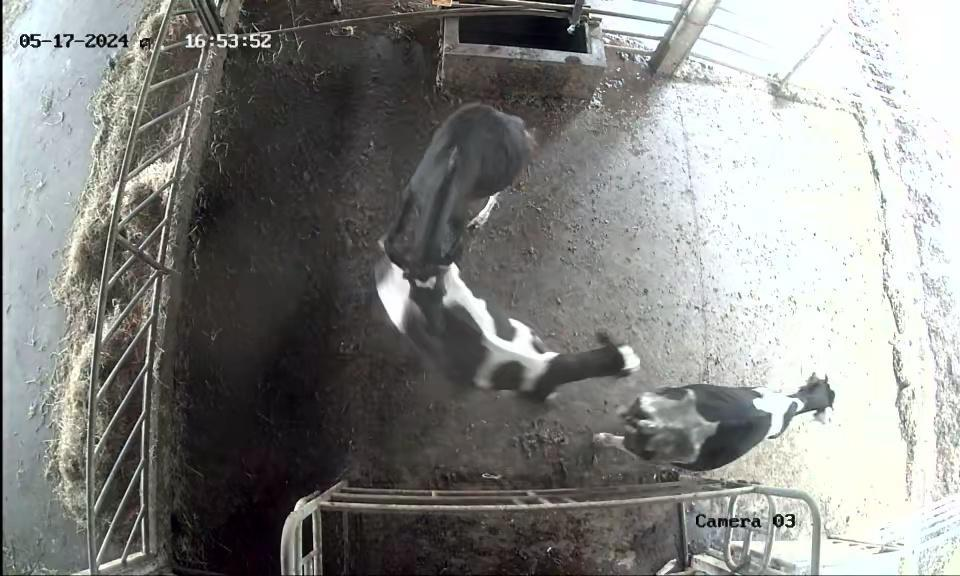ride: (387, 93, 554, 323)
stand: (371, 252, 648, 414), (589, 367, 842, 483)
